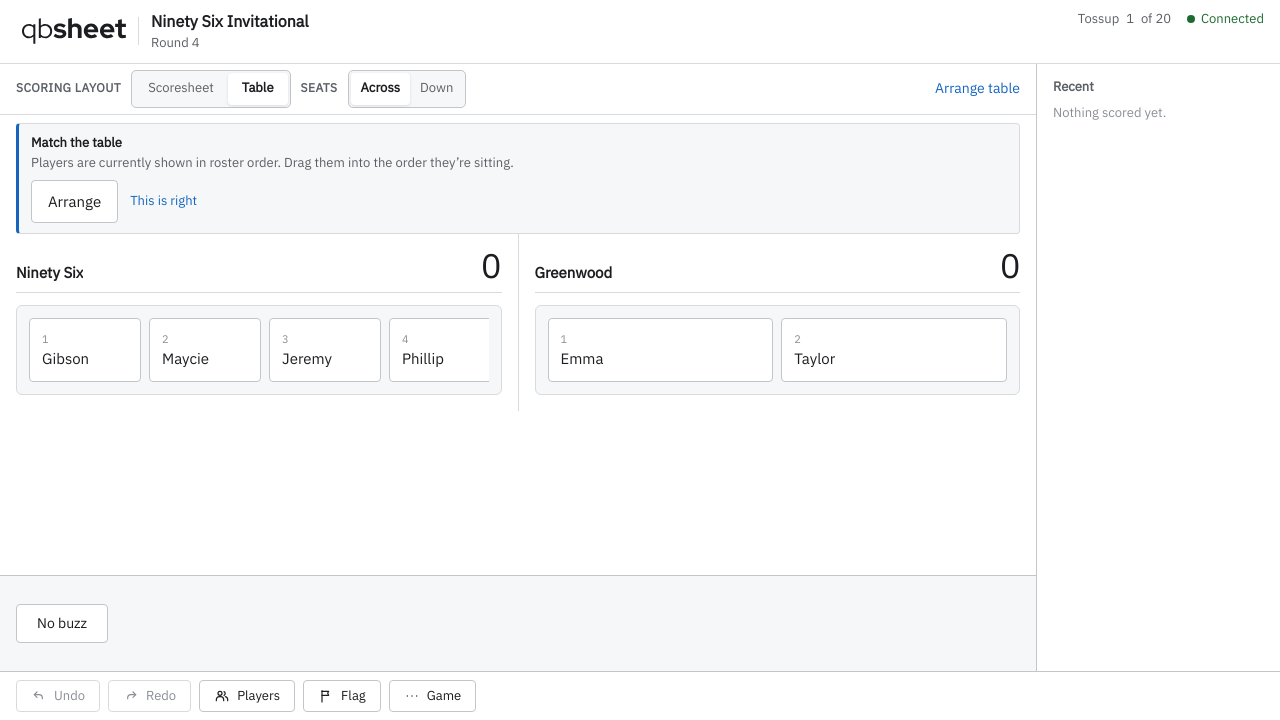
Test case: a ruling recorded from the table › it is the ordinary tossup event, against the right player and the right team
Click the button "2 Maycie" at (205, 350), box x1=149 y1=318 x2=261 y2=382
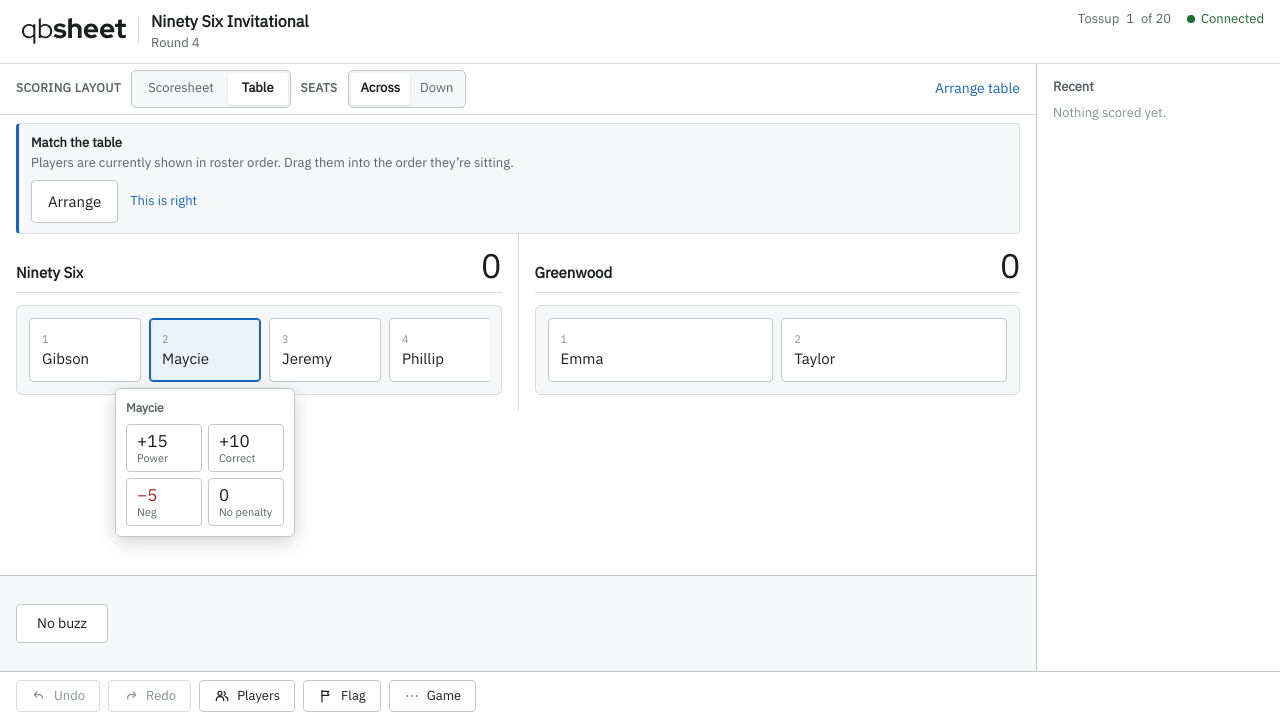
Click the button with aria-label "Maycie 10" at (246, 448), box x1=208 y1=424 x2=284 y2=472
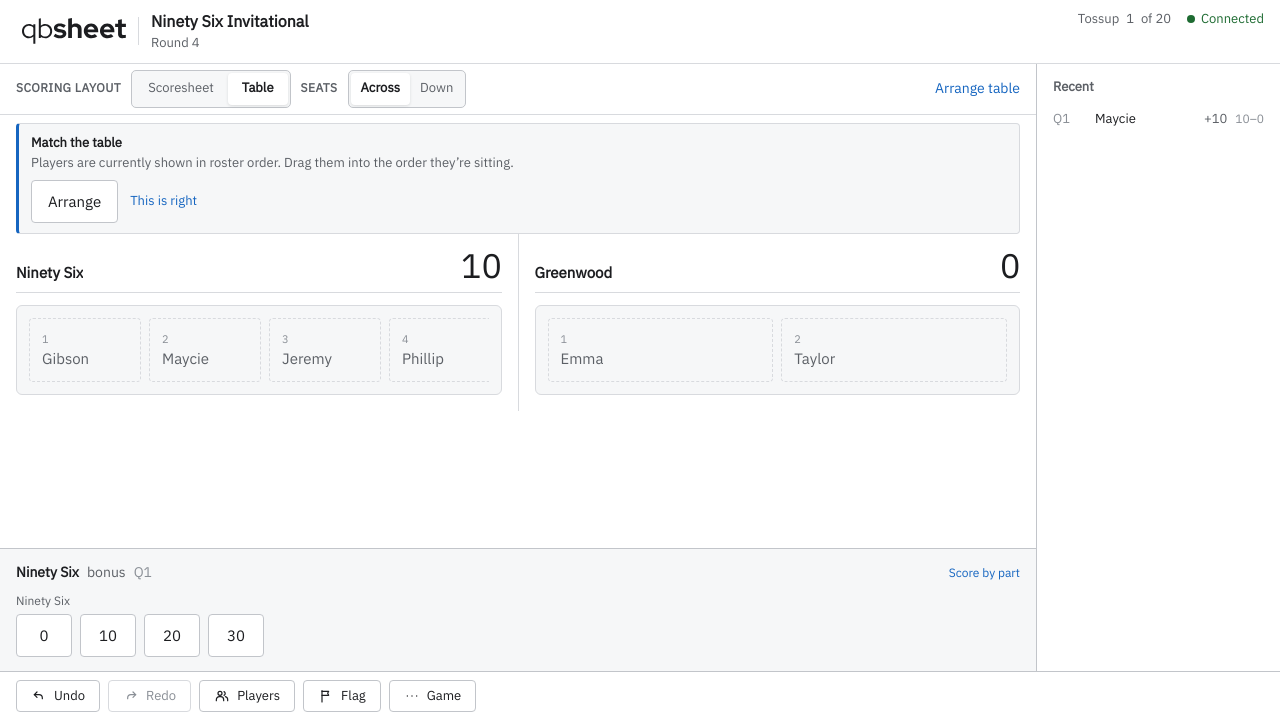
Expected: the element named "Ninety Six score" reads "10", x1=461 y1=243 x2=502 y2=287
